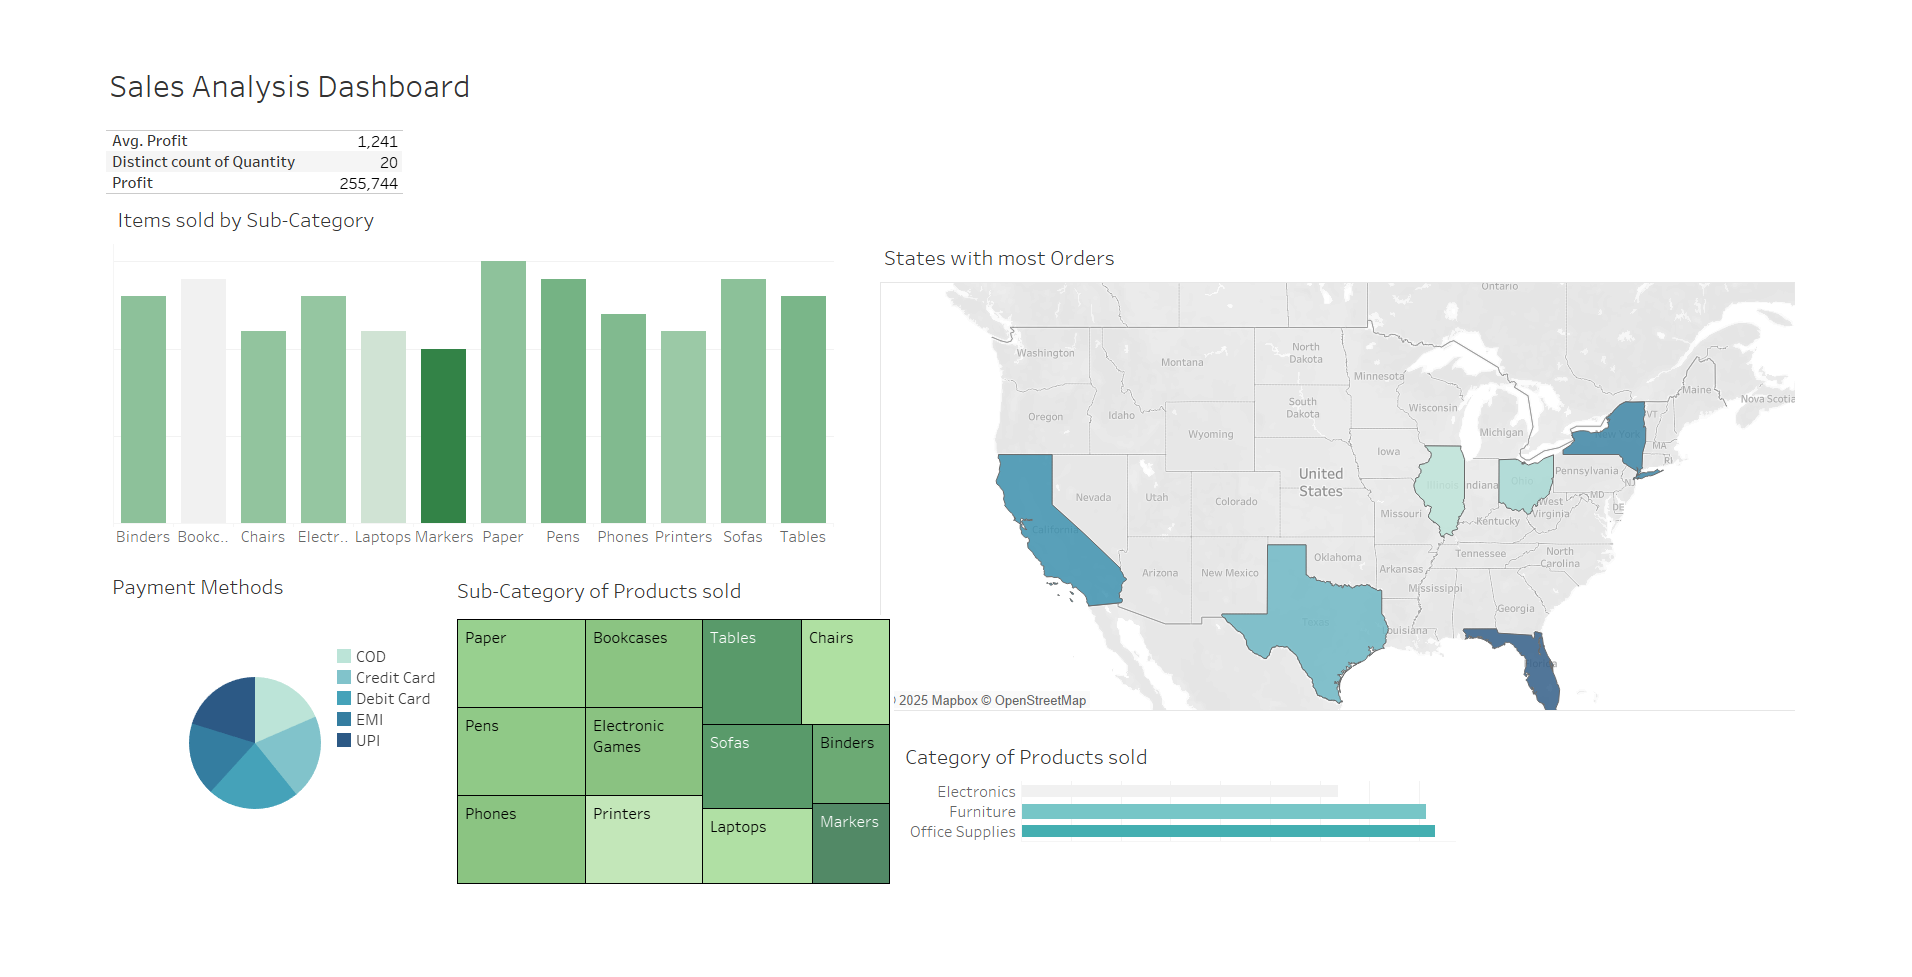

What the dashboard file says about the page in this screenshot:
{"tool":"tableau","page":{"name":"Dashboard 1","canvas":[1000,1000],"units":"permille","ordinal":0},"visuals":[{"type":"title","box":[4.8,10,990.3,62.4]},{"type":"worksheet","title":"Sheet 2","mark":"Automatic","box":[7.2,73.7,279.4,124.8]},{"type":"worksheet","title":"Sheet 1","mark":"Automatic","rows":["Order ID"],"cols":["Sub-Category"],"box":[10.9,173.5,443,420.7]},{"type":"worksheet","title":"Sheet 5","mark":"Automatic","box":[456.9,217.2,532.3,549.3]},{"type":"worksheet","title":"Sheet 4","mark":"Pie","box":[7.9,600.5,170.8,357.1]},{"type":"worksheet","title":"Sheet 7","mark":"Automatic","box":[208.8,604.2,294.5,367]},{"type":"legend","title":"Sheet 4","param":"[federated.0h0psfj1gjmho118a39ou12vggfq].[none:PaymentMode:nk]","box":[139.4,690.4,84.5,158.6]},{"type":"worksheet","title":"Sheet 6","mark":"Automatic","rows":["Category"],"cols":["Amount"],"box":[469.2,798,322.7,149.6]}]}

Visuals, with their boxes on the dashboard's canvas, which has no fixed pixel size, in thousandths of its width and height (x1, y1, x2, y2). These are canvas units, not pixel positions in the 1912x977 screenshot, which may show the page scaled, cropped or inside an application window:
title: {"left": 5, "top": 10, "right": 995, "bottom": 72}
"Sheet 2" worksheet: {"left": 7, "top": 74, "right": 287, "bottom": 198}
"Sheet 1" worksheet: {"left": 11, "top": 174, "right": 454, "bottom": 594}
"Sheet 5" worksheet: {"left": 457, "top": 217, "right": 989, "bottom": 766}
"Sheet 4" worksheet (Pie marks): {"left": 8, "top": 600, "right": 179, "bottom": 958}
"Sheet 7" worksheet: {"left": 209, "top": 604, "right": 503, "bottom": 971}
"Sheet 4" legend: {"left": 139, "top": 690, "right": 224, "bottom": 849}
"Sheet 6" worksheet: {"left": 469, "top": 798, "right": 792, "bottom": 948}
